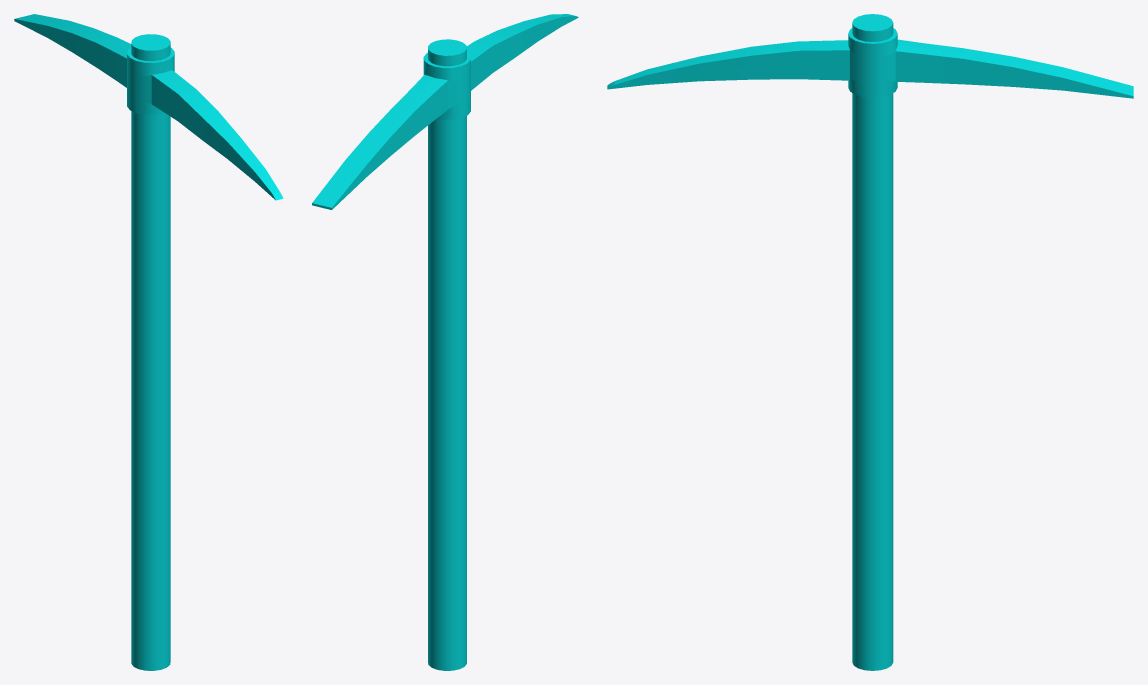
Rendered from Pickaxe.fbx.
3 views of the same model, side by side, from view 1: azimuth 30°, elevation 25°; view 2: azimuth 150°, elevation 25°; view 3: azimuth 270°, elevation 25° (orthographic). The views are drawn at different scales.
Parts seen in each view (by area): view 1: PickaxeHandle_Low, PickaxeTop_Low; view 2: PickaxeHandle_Low, PickaxeTop_Low; view 3: PickaxeHandle_Low, PickaxeTop_Low.
Part boxes in pixels (left/top/right/bottom): PickaxeHandle_Low: left=131, top=34, right=170, bottom=670; PickaxeTop_Low: left=14, top=14, right=283, bottom=200; PickaxeHandle_Low: left=428, top=39, right=466, bottom=670; PickaxeTop_Low: left=312, top=14, right=578, bottom=209; PickaxeHandle_Low: left=852, top=14, right=893, bottom=670; PickaxeTop_Low: left=607, top=28, right=1133, bottom=98.
Bounding box in the file's own units: 11.71 × 167 × 125.
